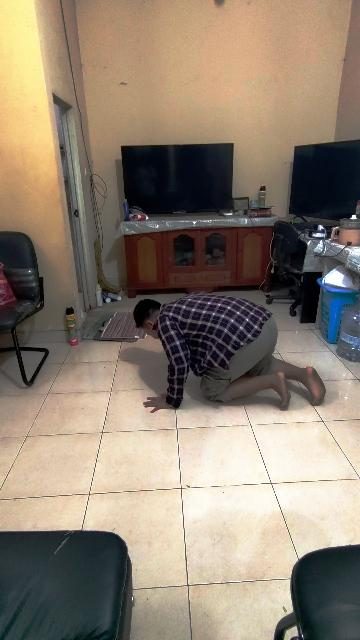jatuh: (133, 292, 329, 416)
